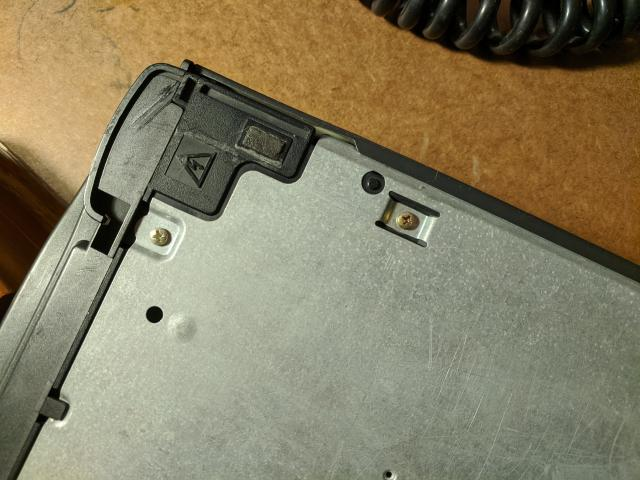CRS: (148, 227, 170, 245), (397, 211, 418, 229)
